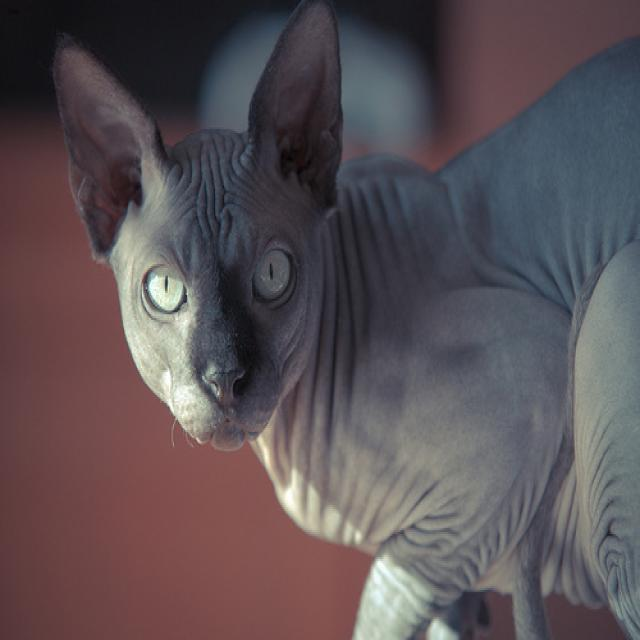Sphynx: (51, 0, 341, 451)
